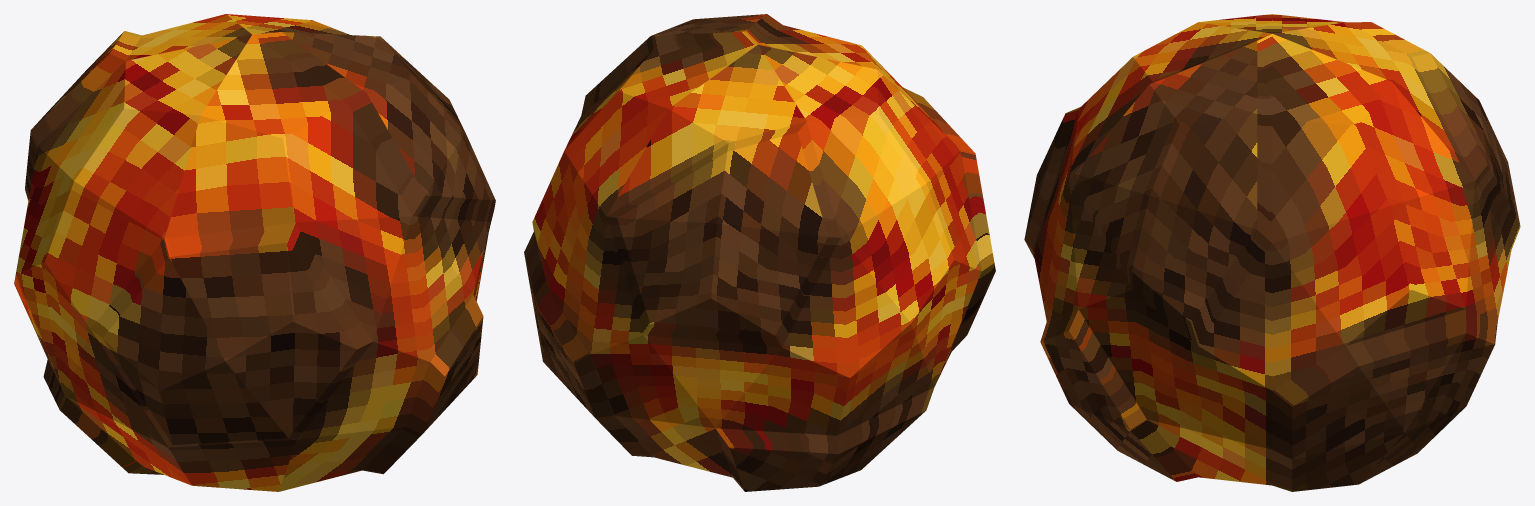
The model's file is lobbercore.obj.
3 views of the same model, side by side, from view 1: azimuth 30°, elevation 25°; view 2: azimuth 150°, elevation 25°; view 3: azimuth 270°, elevation 25° (orthographic). The views are drawn at different scales.
Parts seen in each view (by area): view 1: lobbercore; view 2: lobbercore; view 3: lobbercore.
Boxes of the visible parts, x1,y1,x2,y2 form: lobbercore: (14,14,495,491); lobbercore: (524,14,995,491); lobbercore: (1024,14,1520,491).
Size of the model in its own units: 0.7081 by 0.7237 by 0.7351.
